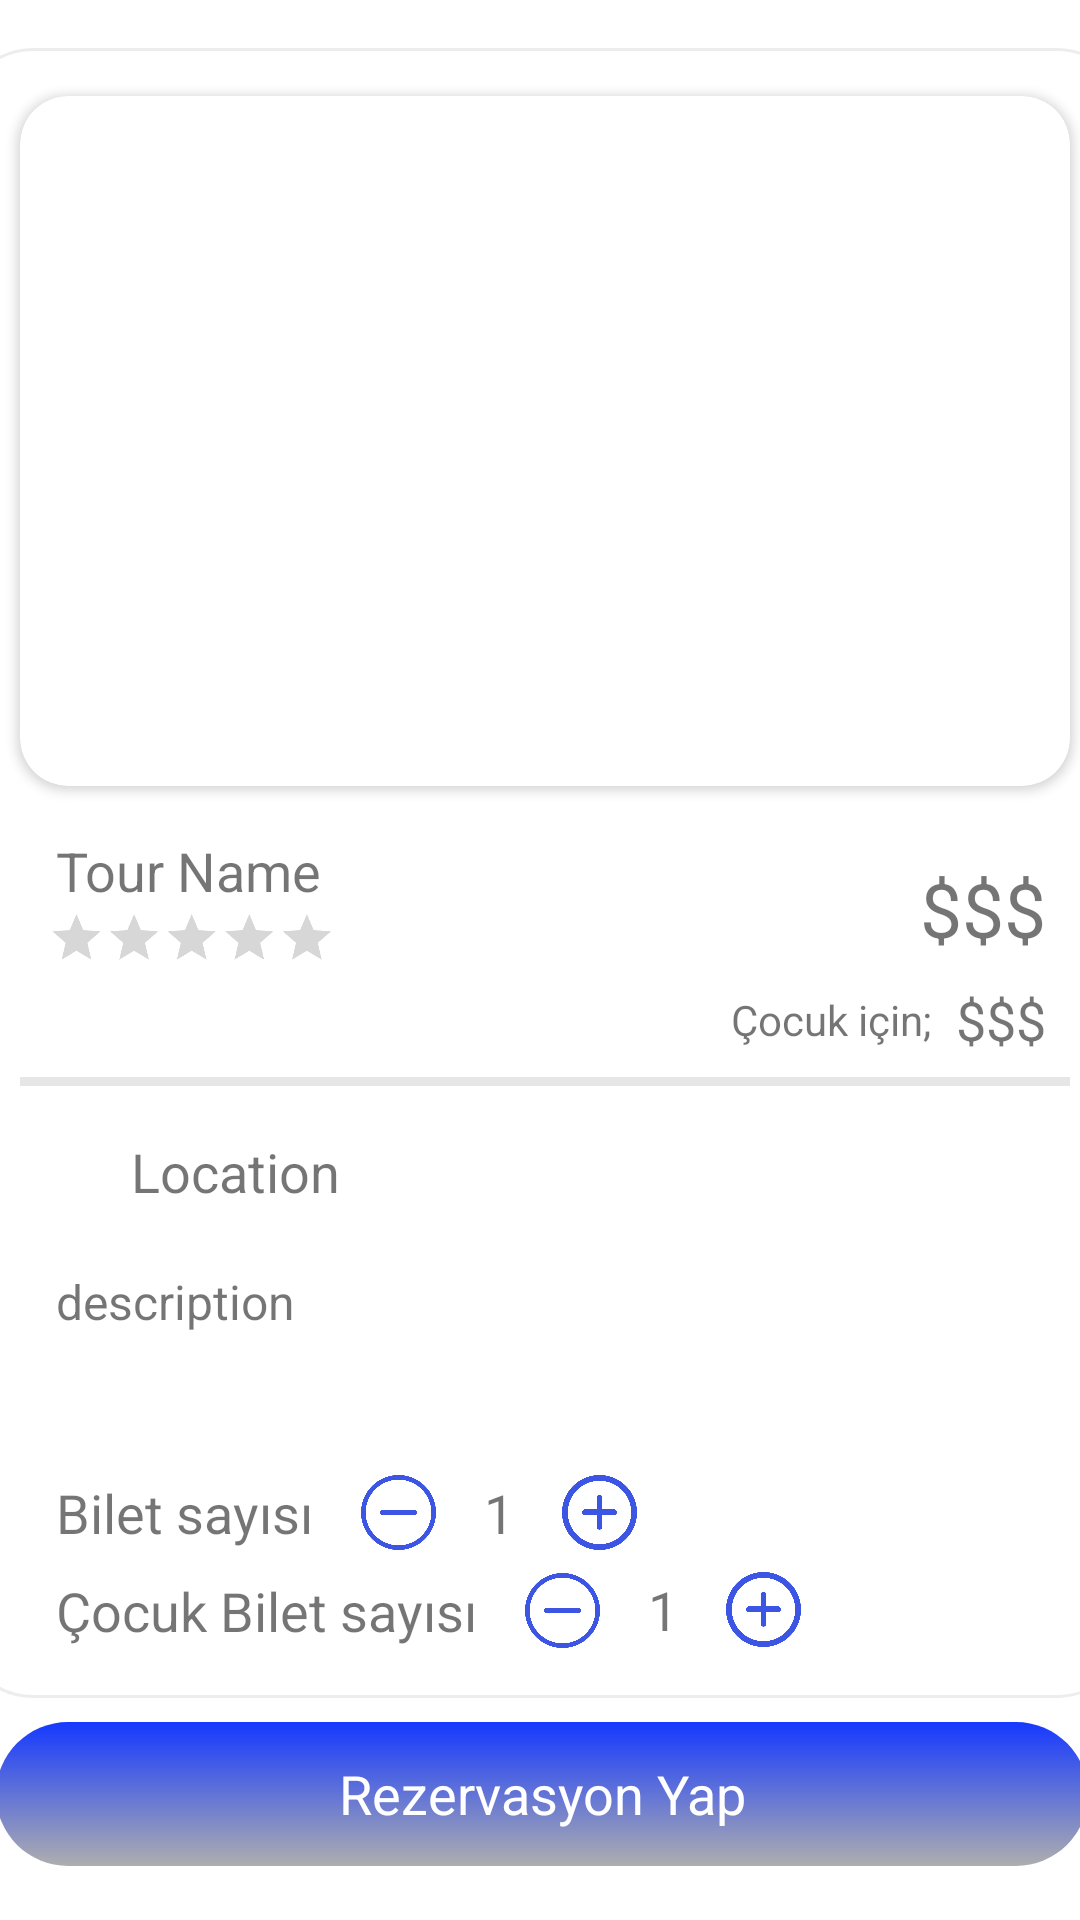

Where to tap for icons on this 1080×1920 app screen, as (x=x, y=y):
add: (x=599, y=1512), (x=763, y=1609)
minus: (x=398, y=1512), (x=562, y=1610)
